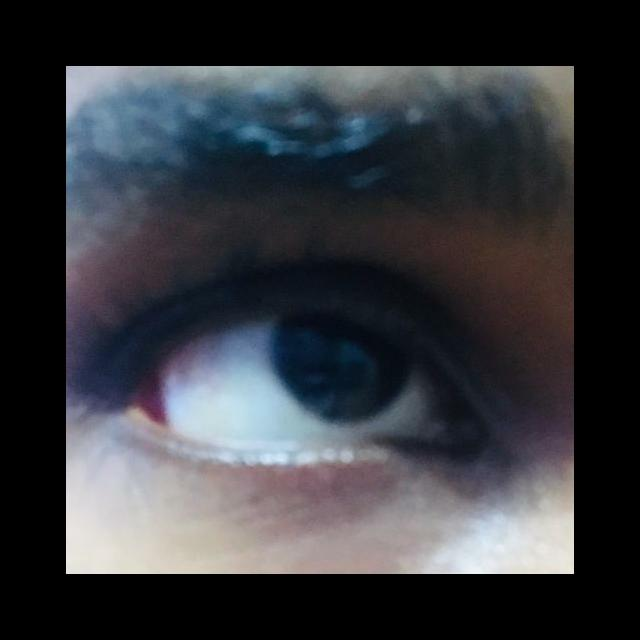eye: (155, 316, 442, 447)
iris: (269, 320, 419, 425)
